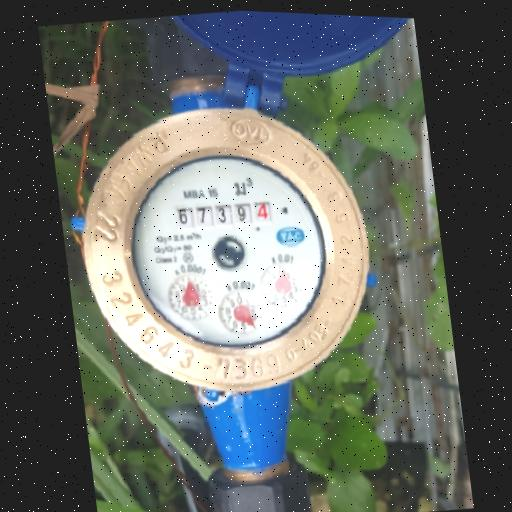3: (216, 202, 233, 227)
4: (256, 202, 271, 224)
6: (179, 206, 194, 229)
7: (197, 205, 213, 227)
9: (237, 204, 252, 224)
border_water_meter_number: (172, 191, 278, 240)
